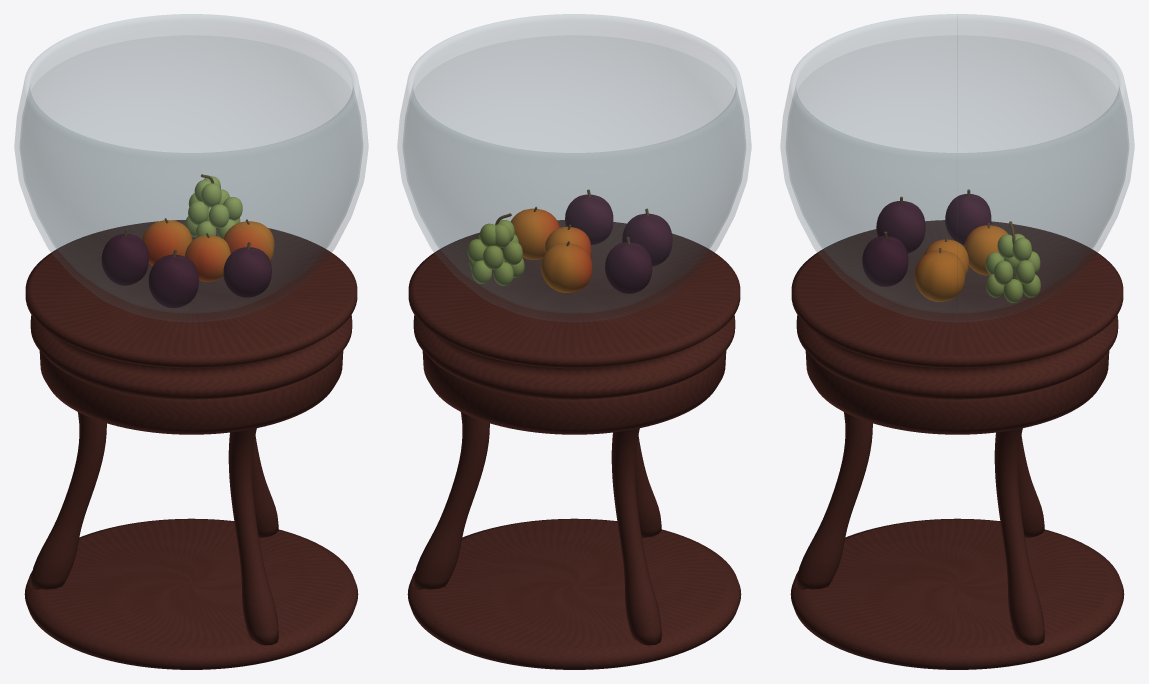
The model's file is gpt-shuijinggang-v1.glb.
3 views of the same model, side by side, from view 1: azimuth 30°, elevation 25°; view 2: azimuth 150°, elevation 25°; view 3: azimuth 270°, elevation 25° (orthographic).
Parts seen in each view (by area): view 1: 圆座托泥, 厚壁敞口水晶缸, 紫李1, 紫李2, 紫李3, 杏3, 杏2, 杏1; view 2: 圆座托泥, 厚壁敞口水晶缸, 杏2, 紫李3, 紫李2, 紫李1, 杏1, 杏3; view 3: 圆座托泥, 厚壁敞口水晶缸, 杏1, 紫李2, 紫李1, 紫李3, 杏2, 杏3.
Boxes of the visible parts, x1,y1,x2,y2 form: 圆座托泥: [24, 220, 358, 669]; 厚壁敞口水晶缸: [14, 14, 368, 321]; 紫李1: [148, 254, 198, 307]; 紫李2: [223, 247, 271, 297]; 紫李3: [101, 234, 148, 285]; 杏3: [185, 235, 230, 281]; 杏2: [142, 220, 192, 265]; 杏1: [223, 221, 274, 260]; 圆座托泥: [407, 220, 741, 669]; 厚壁敞口水晶缸: [397, 14, 751, 321]; 杏2: [541, 243, 592, 292]; 紫李3: [605, 242, 652, 293]; 紫李2: [565, 194, 613, 244]; 紫李1: [622, 213, 672, 266]; 杏1: [510, 208, 559, 259]; 杏3: [544, 226, 591, 257]; 圆座托泥: [790, 220, 1124, 669]; 厚壁敞口水晶缸: [780, 14, 1134, 321]; 杏1: [914, 250, 965, 301]; 紫李2: [862, 236, 908, 286]; 紫李1: [876, 201, 925, 253]; 紫李3: [945, 194, 991, 245]; 杏2: [964, 225, 1008, 275]; 杏3: [924, 239, 968, 275].
Size of the model in its own units: 0.474 by 0.771 by 0.474.
7 materials, 3 textured.
